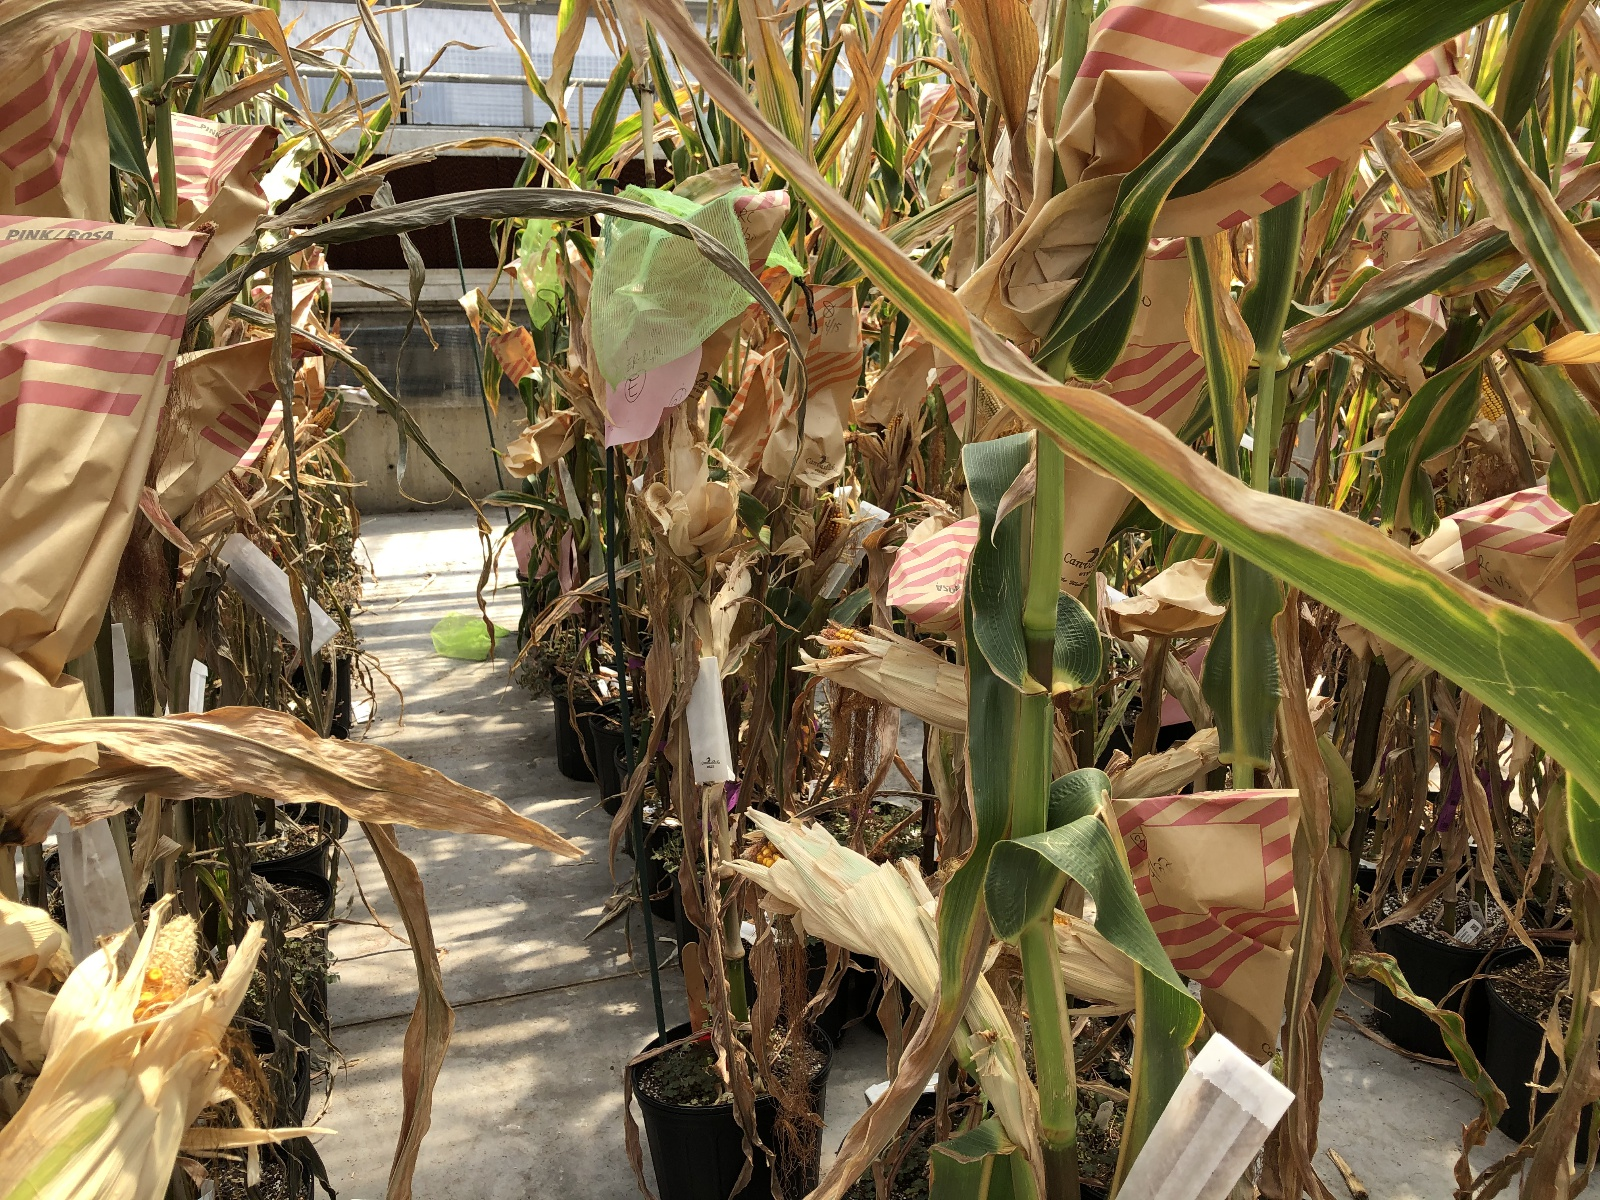ear: (6, 905, 207, 1192), (731, 802, 935, 973), (809, 620, 971, 713), (1054, 904, 1138, 1010), (811, 483, 848, 581), (1466, 371, 1513, 445)
